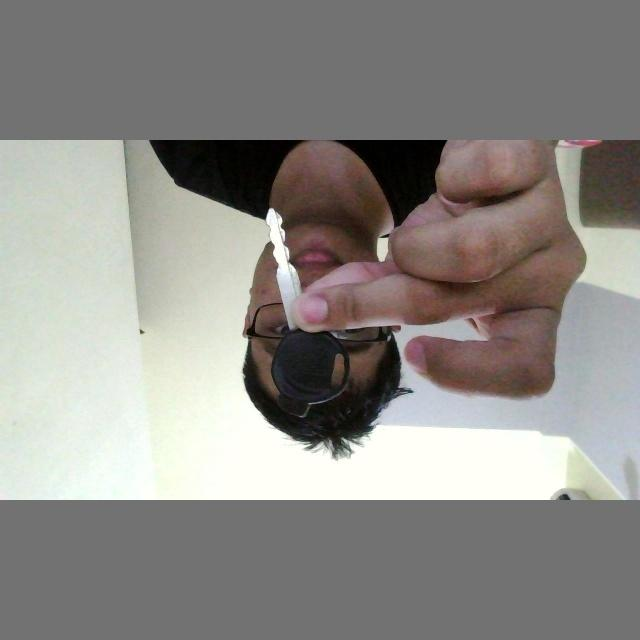Keys: (252, 206, 354, 422)
